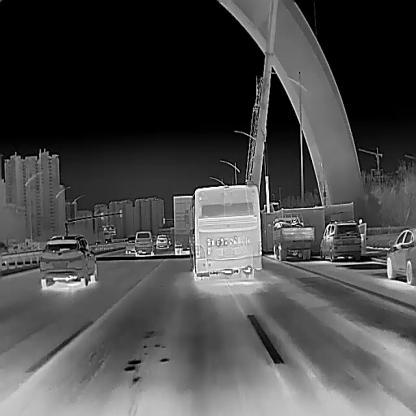car: (184, 180, 262, 281), (39, 234, 97, 287), (267, 216, 315, 260), (319, 220, 366, 261), (386, 225, 416, 285), (173, 195, 193, 253), (134, 231, 155, 256), (156, 235, 169, 249), (125, 235, 135, 253)
